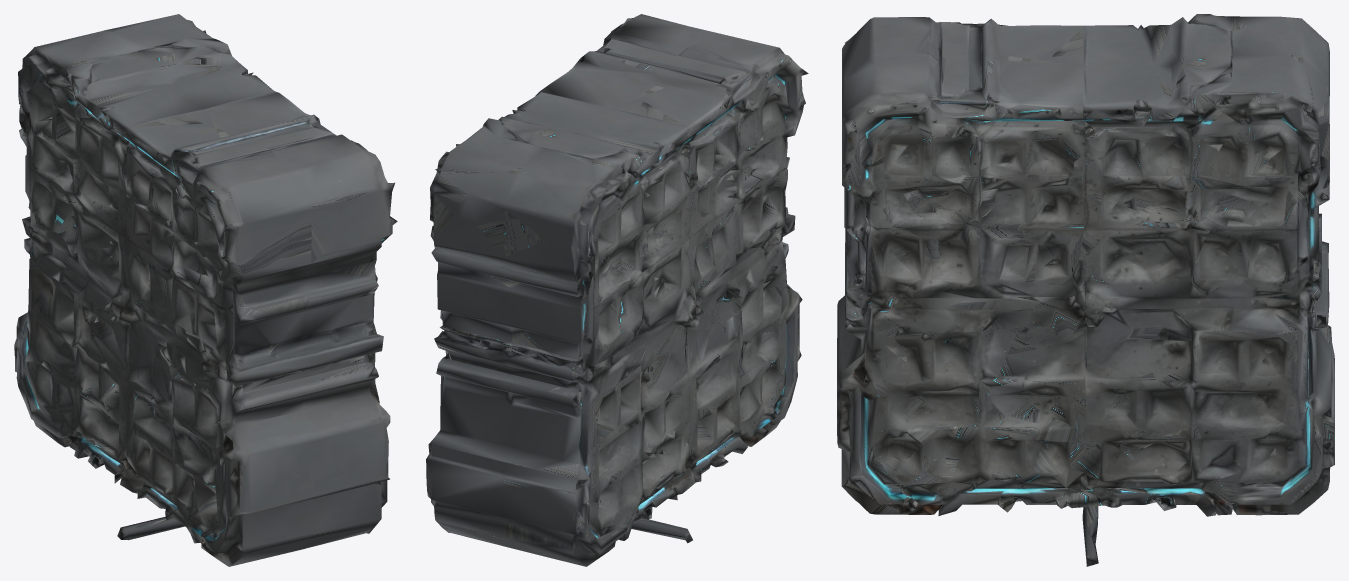
Rendered from floor_tile.glb.
3 renders of one model, left to right at view 1: azimuth 30°, elevation 25°; view 2: azimuth 150°, elevation 25°; view 3: azimuth 270°, elevation 25°, orthographic. The views are drawn at different scales.
Parts seen in each view (by area): view 1: tripo_node_b1dbca01-e0a8-47e6-b041-e36036bebb85; view 2: tripo_node_b1dbca01-e0a8-47e6-b041-e36036bebb85; view 3: tripo_node_b1dbca01-e0a8-47e6-b041-e36036bebb85.
Part boxes in pixels (box(x1,y1,x2,y2)): tripo_node_b1dbca01-e0a8-47e6-b041-e36036bebb85: box(14, 14, 397, 566); tripo_node_b1dbca01-e0a8-47e6-b041-e36036bebb85: box(426, 14, 808, 566); tripo_node_b1dbca01-e0a8-47e6-b041-e36036bebb85: box(837, 14, 1334, 566).
Size of the model in its own units: 0.4326 by 0.9974 by 0.9582.
Materials: 1 (1 with a texture image).
